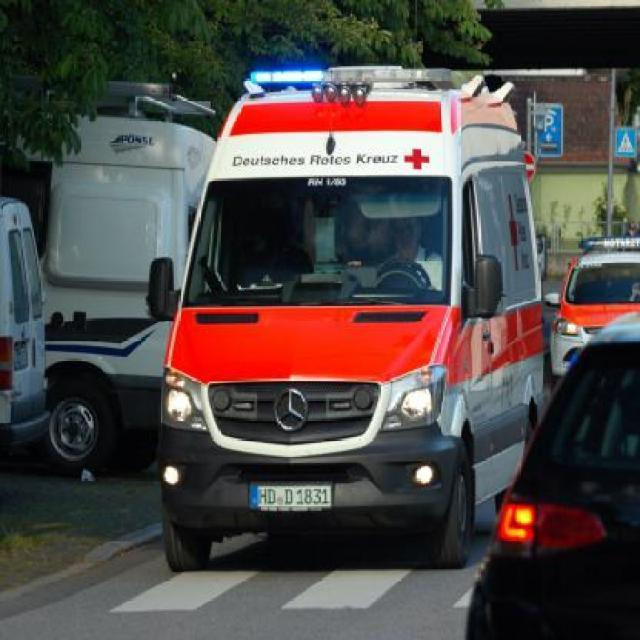Ambulance: (146, 63, 549, 574)
car: (462, 305, 638, 639), (546, 230, 639, 382)
van: (0, 72, 220, 478), (2, 186, 54, 470)
